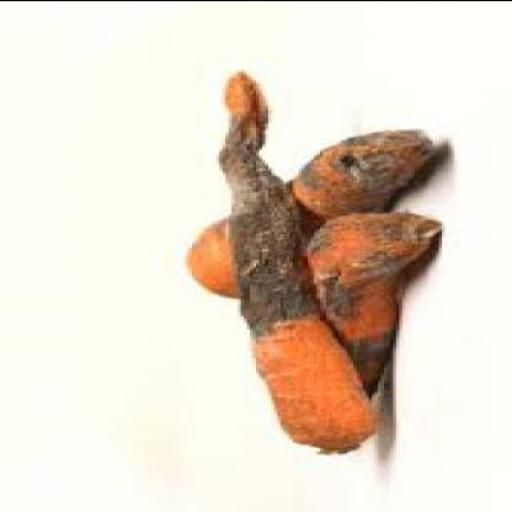biodegradable: (213, 67, 381, 452), (182, 127, 432, 298), (301, 207, 442, 394)
